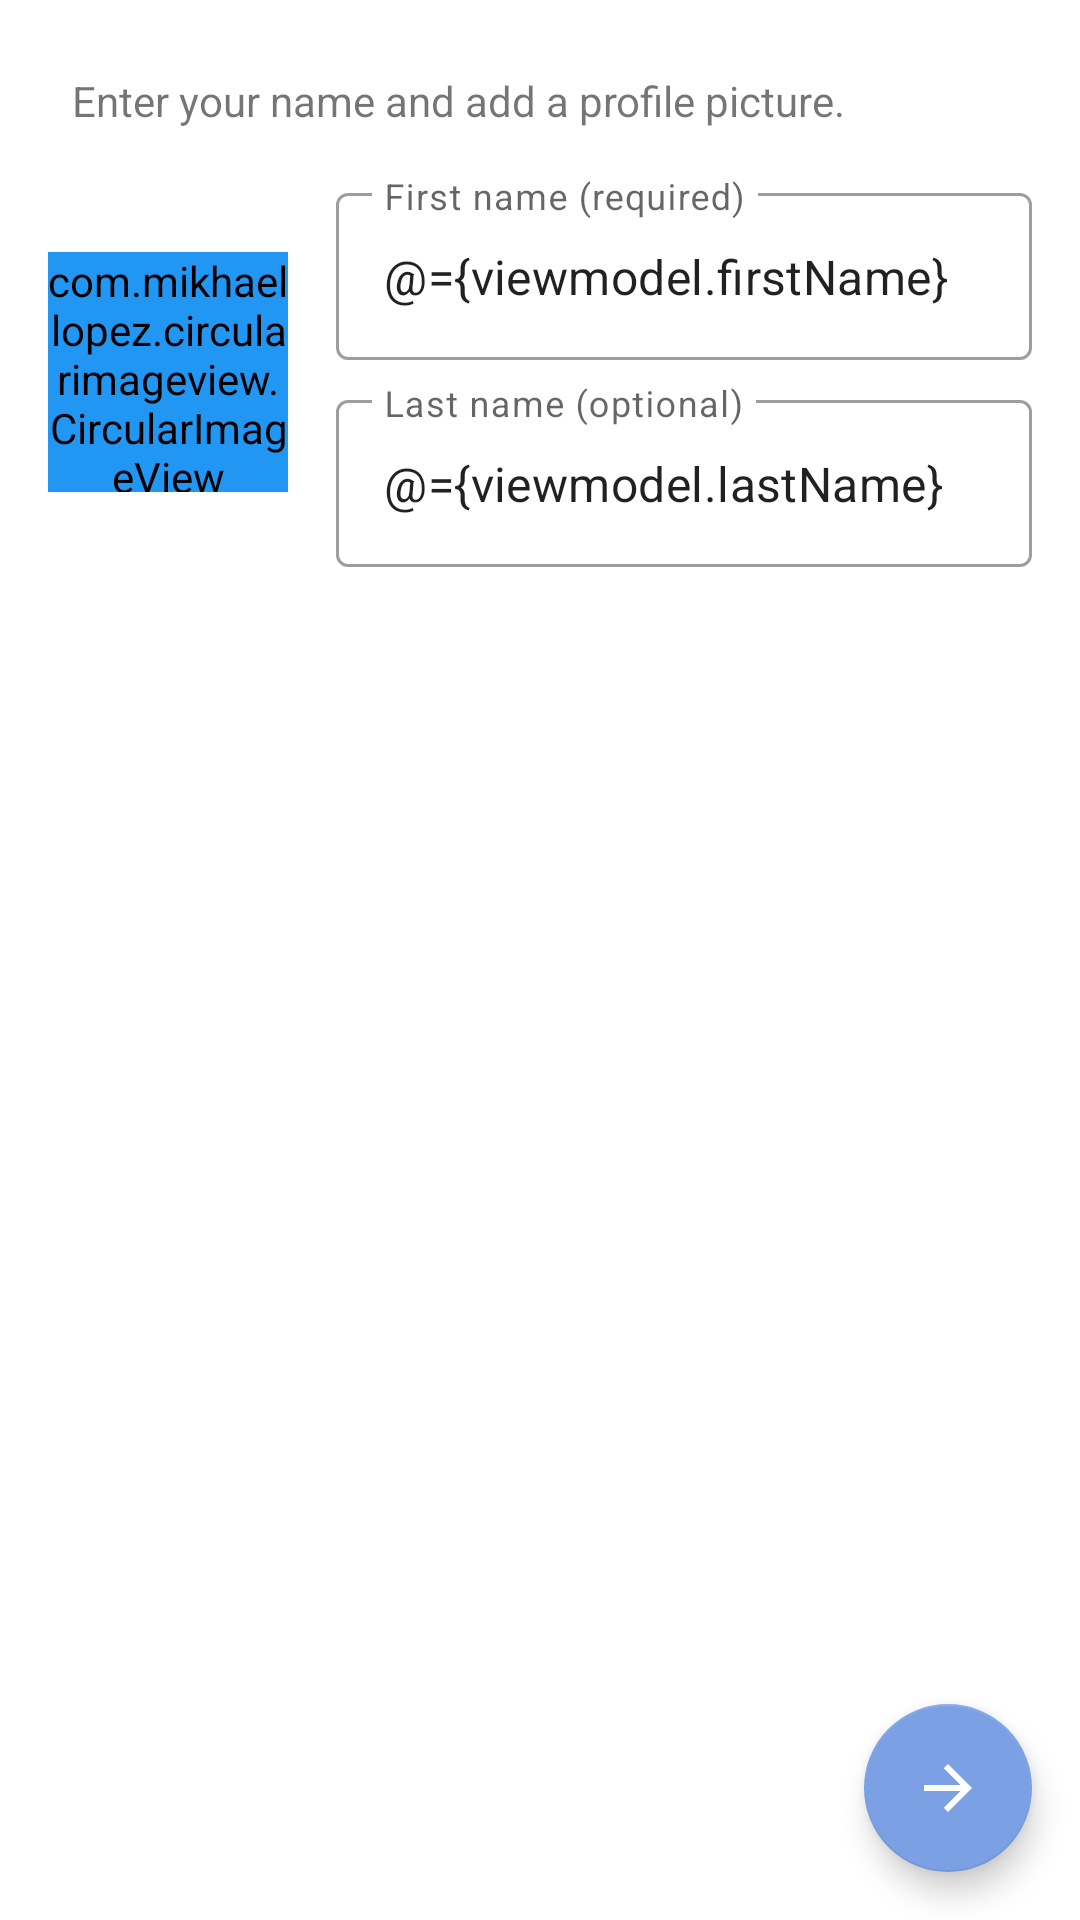

Named icons in this screenshot (1080 x 1920) and their centers, point (x, y):
arrow forward: point (948, 1788)
